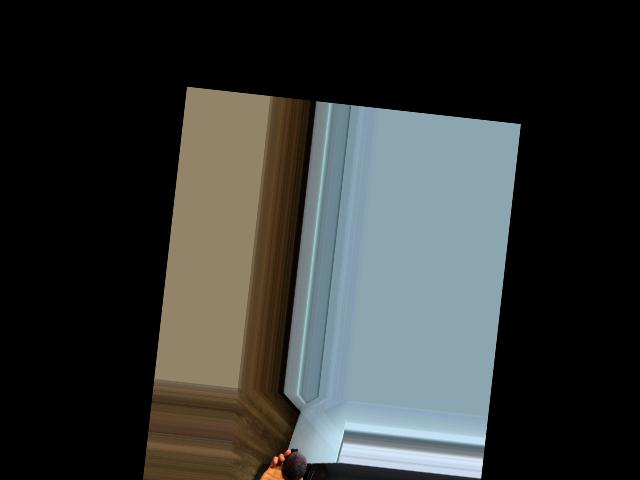beet: (281, 447, 307, 480)
